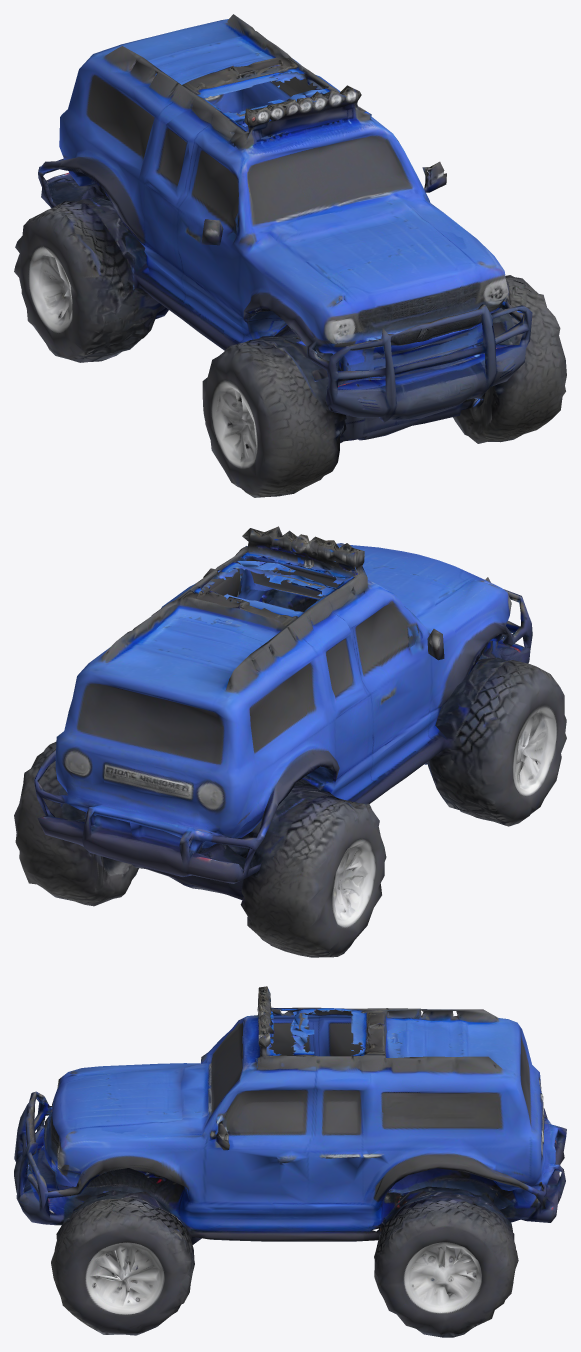
File: rc-car.glb
The picture shows the model from 3 angles, top to bottom: view 1: azimuth 30°, elevation 25°; view 2: azimuth 150°, elevation 25°; view 3: azimuth 270°, elevation 25°; orthographic projection. The views are drawn at different scales.
Size of the model in its own units: 1.12 by 1.09 by 2.
Materials: 1 (1 with a texture image).
